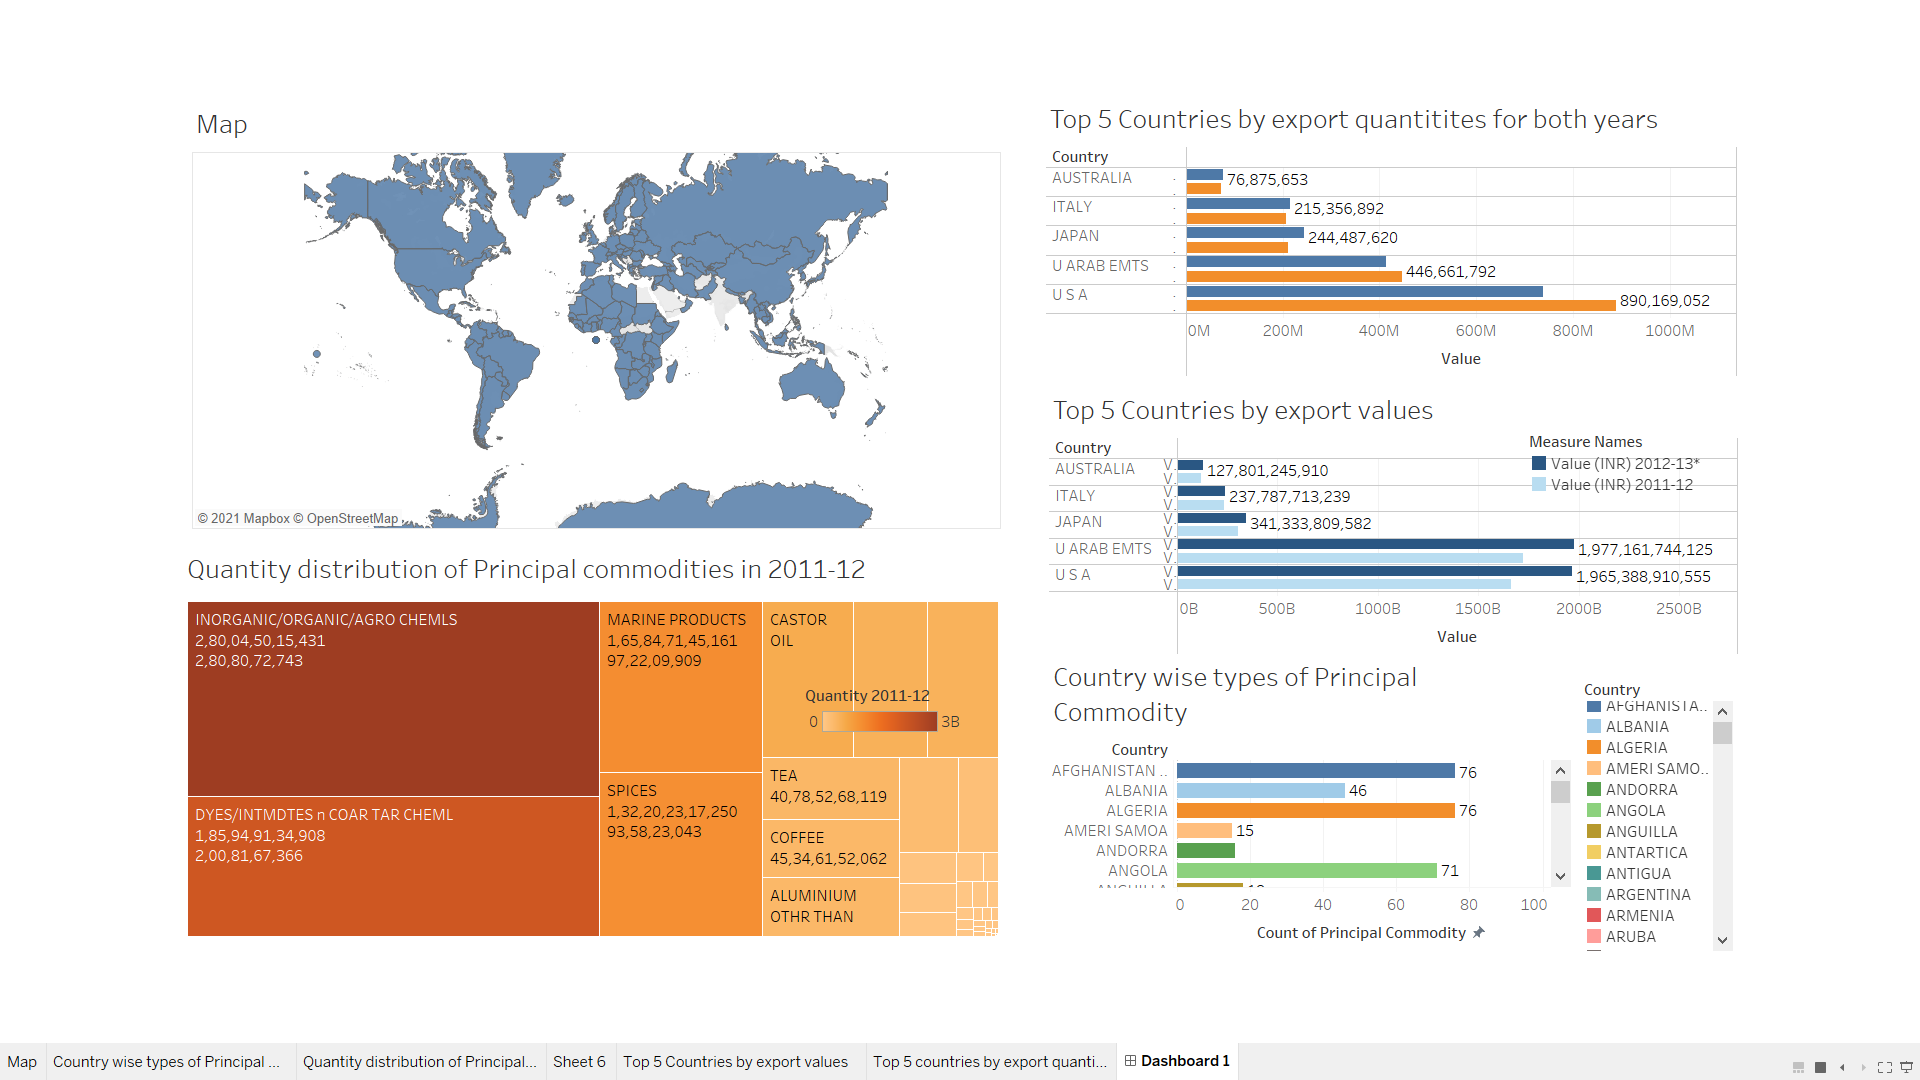

The dashboard page shown, as its layout file describes it:
{"tool":"tableau","page":{"name":"Dashboard 1","canvas":[1566,868],"ordinal":0},"visuals":[{"type":"worksheet","title":"Top 5 countries by export quantities","mark":"Automatic","rows":["Country"],"box":[869,10.2,691.3,280.3]},{"type":"worksheet","title":"Map","mark":"Multipolygon","box":[14.9,14.7,809.4,427.2]},{"type":"worksheet","title":"Top 5 Countries by export values","mark":"Automatic","rows":["Country"],"box":[872.4,300.6,689,266.7]},{"type":"worksheet","title":"Top 5 Countries by export values","mark":"Automatic","rows":["Country"],"param":"[federated.1bsty4r0o4oebw15lhwxz1uoqi88].[:Measure Names]","box":[1351.6,343.6,206.4,70.1]},{"type":"worksheet","title":"Quantity distribution of Principal commodities in 2011-12 ","mark":"Automatic","box":[5.7,460,818.5,394.4]},{"type":"worksheet","title":"Country wise types of Principal Commodity","mark":"Automatic","rows":["Country"],"cols":["Principal Commodity"],"box":[872.4,568.5,521.6,295]},{"type":"worksheet","title":"Country wise types of Principal Commodity","mark":"Automatic","rows":["Country"],"cols":["Principal Commodity"],"param":"[federated.1bsty4r0o4oebw15lhwxz1uoqi88].[none:Country:nk]","box":[1406.6,592.2,151.3,272.4]},{"type":"worksheet","title":"Quantity distribution of Principal commodities in 2011-12 ","mark":"Automatic","param":"[federated.1bsty4r0o4oebw15lhwxz1uoqi88].[sum:Quantity 2011-12:qk]","box":[628.2,597.9,160.5,76.9]}]}

Visuals, with their boxes on the page's 1566x868 design canvas (x1, y1, x2, y2). These are canvas units, not pixel positions in the 1920x1080 screenshot, which may show the page scaled, cropped or inside an application window:
"Top 5 countries by export quantities" worksheet: left=869, top=10, right=1560, bottom=290
"Map" worksheet (Multipolygon marks): left=15, top=15, right=824, bottom=442
"Top 5 Countries by export values" worksheet: left=872, top=301, right=1561, bottom=567
"Top 5 Countries by export values" worksheet: left=1352, top=344, right=1558, bottom=414
"Quantity distribution of Principal commodities in 2011-12 " worksheet: left=6, top=460, right=824, bottom=854
"Country wise types of Principal Commodity" worksheet: left=872, top=568, right=1394, bottom=864
"Country wise types of Principal Commodity" worksheet: left=1407, top=592, right=1558, bottom=865
"Quantity distribution of Principal commodities in 2011-12 " worksheet: left=628, top=598, right=789, bottom=675
